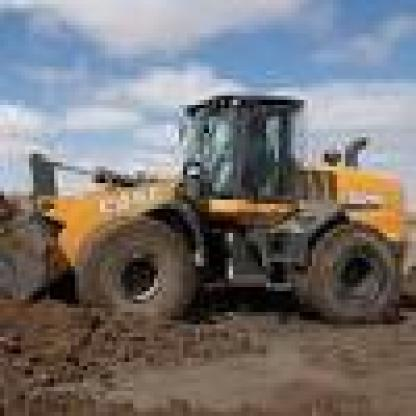bull_dozer/loader/grader: (0, 70, 412, 358)
